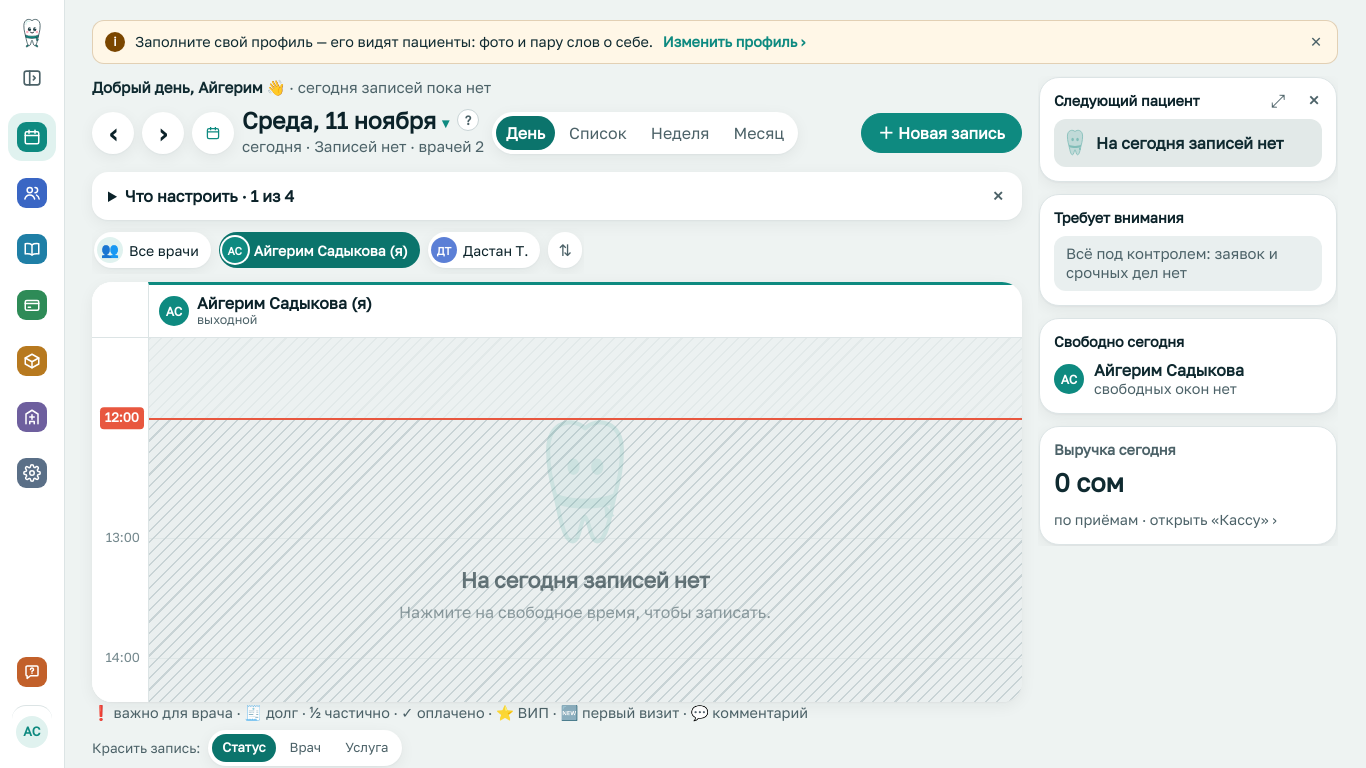
Test case: свёрнутое меню: от блока «Я» остаётся аватар; меню открывается так же
(page scrolled)
// Подписи спрятаны — имя и роль подсказкой при наведении
Hover over the button with aria-label "Айгерим Садыкова, руководитель": (32,728) [12,705,52,752]
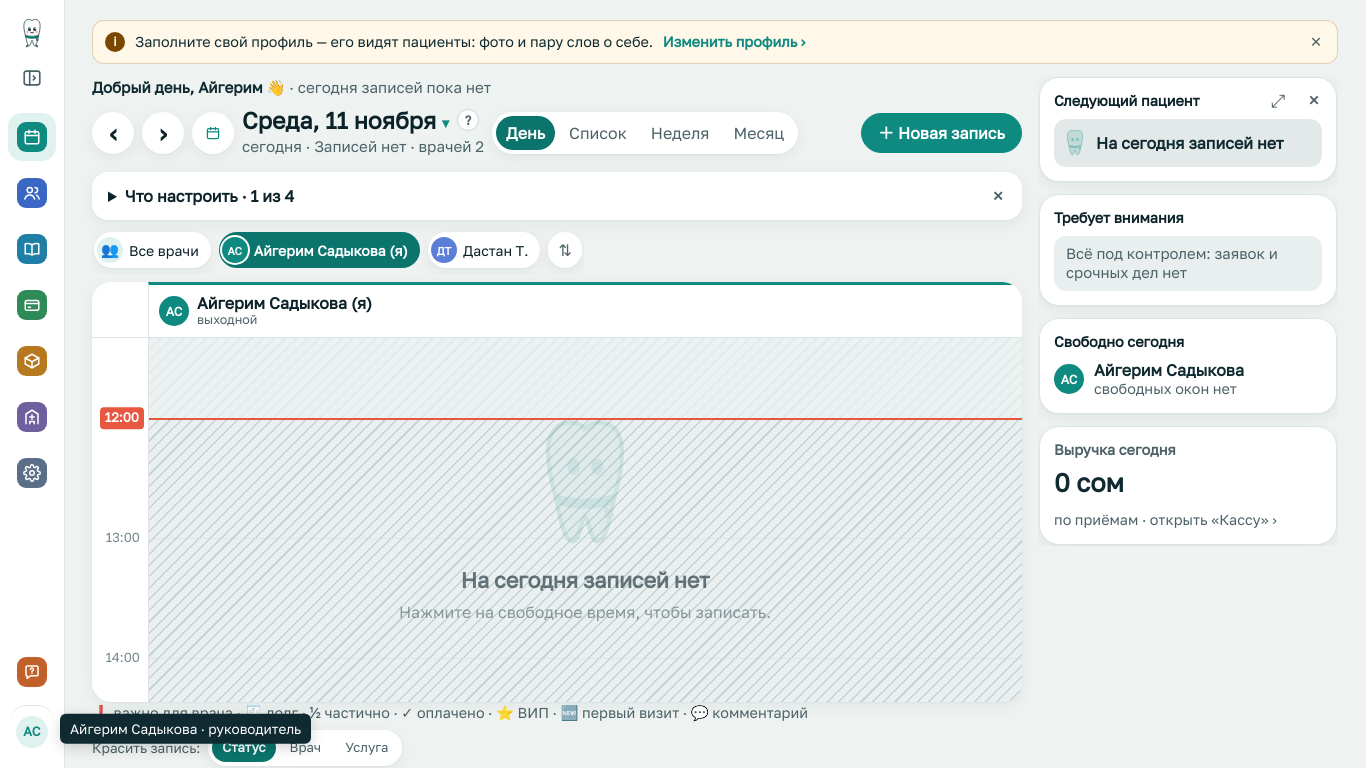
Result: the tooltip reads "Айгерим Садыкова · руководитель" at [70,720,301,736]
Click the button with aria-label "Айгерим Садыкова, руководитель": (32,728) [12,705,52,752]
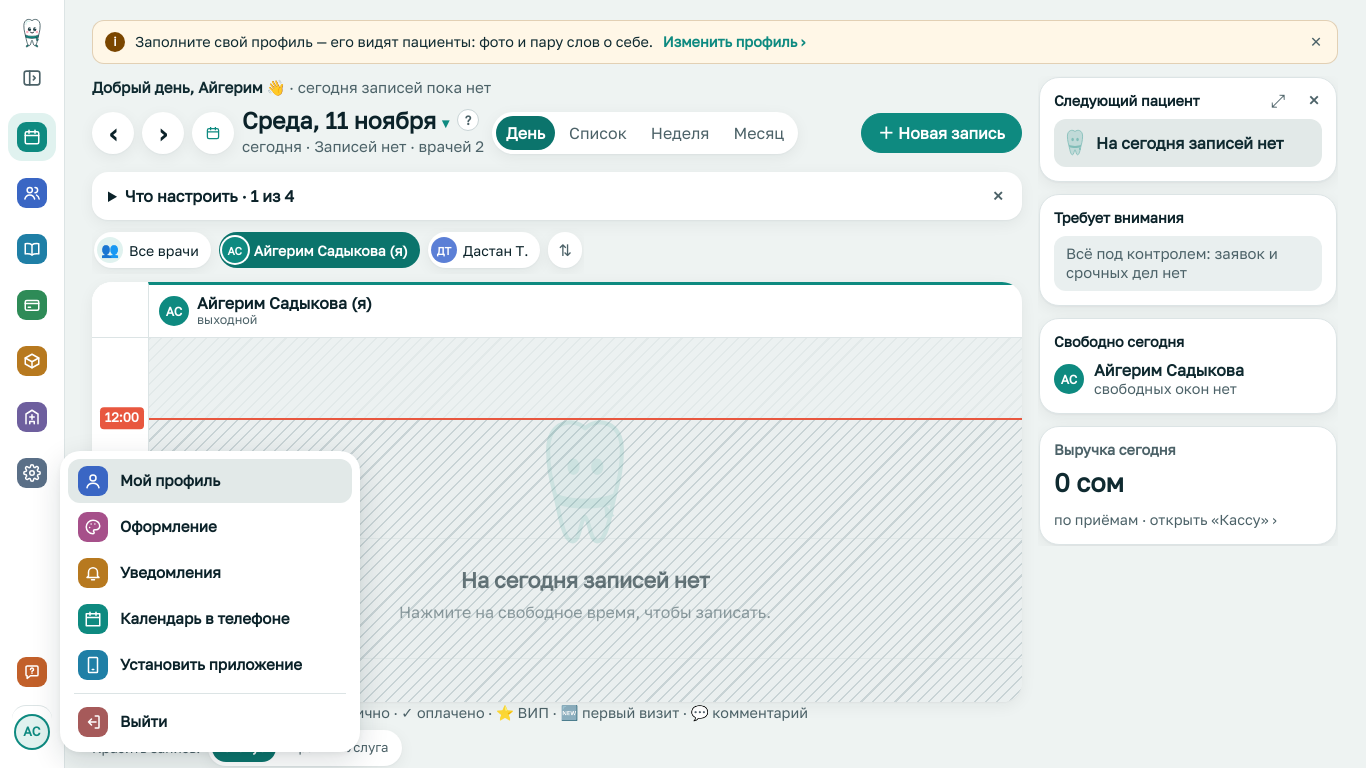
Result: the dialog named "Я: мои настройки" is shown at [60,451,360,752]
